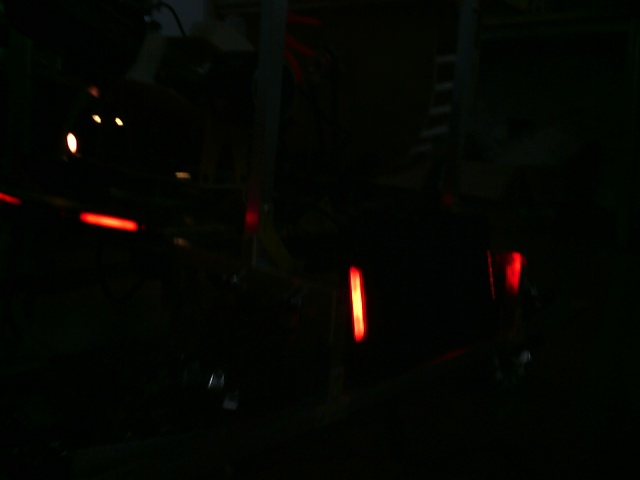lamp: (347, 264, 371, 346), (485, 247, 496, 300)
